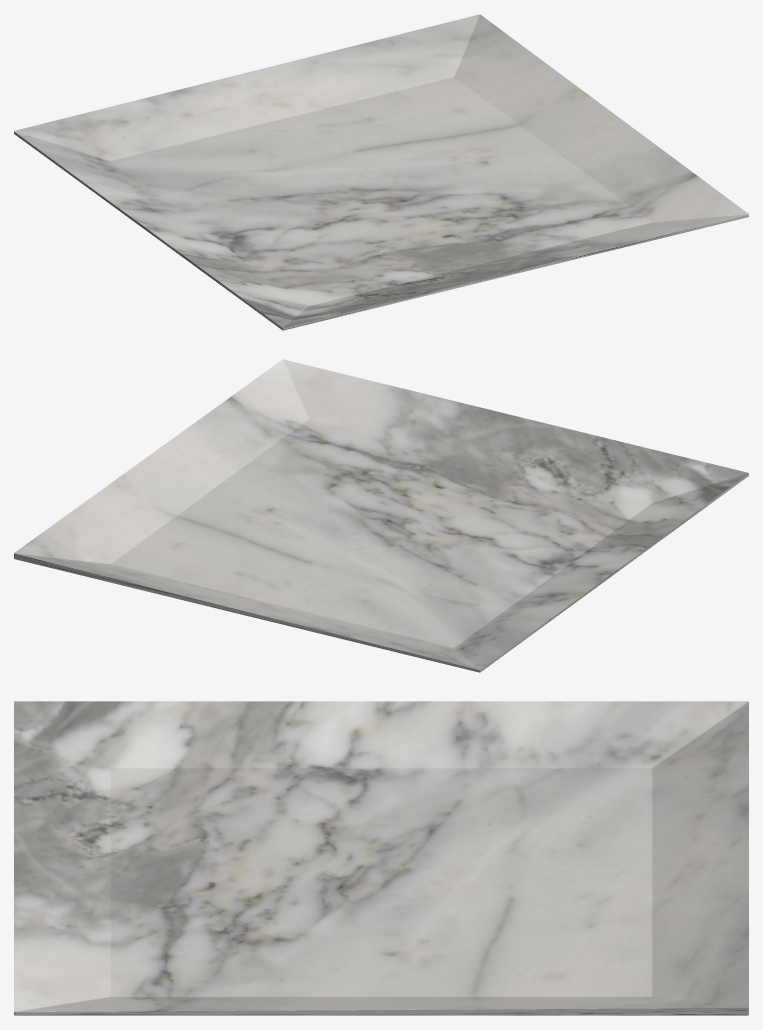
The model's file is MarblePlate.fbx.
3 renders of one model, top to bottom at view 1: azimuth 30°, elevation 25°; view 2: azimuth 150°, elevation 25°; view 3: azimuth 270°, elevation 25°, orthographic. The views are drawn at different scales.
Visible parts, largest first — view 1: Cube; view 2: Cube; view 3: Cube.
Boxes of the visible parts, bbox=[...] form: Cube: bbox=[14, 14, 748, 330]; Cube: bbox=[14, 359, 748, 672]; Cube: bbox=[14, 701, 748, 1015].
Bounding box in the file's own units: 200 × 10.58 × 200.
1 material, 1 textured.
